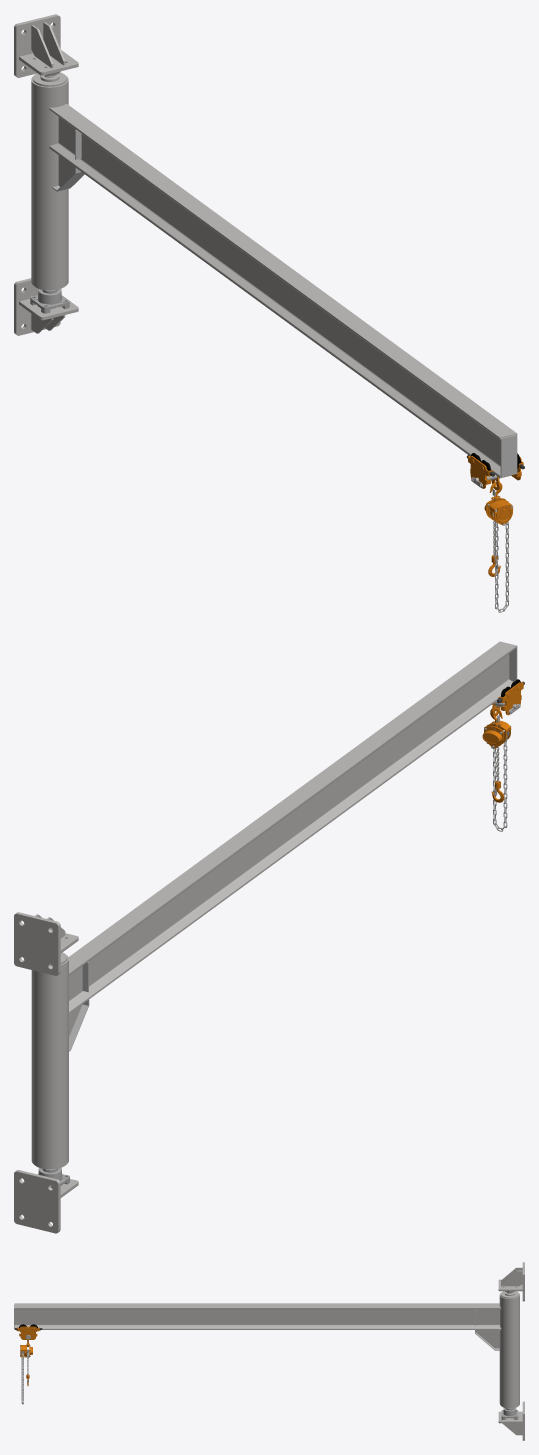
File: crane.glb
The picture shows the model from 3 angles, top to bottom: view 1: azimuth 30°, elevation 25°; view 2: azimuth 150°, elevation 25°; view 3: azimuth 270°, elevation 25°; orthographic projection. The views are drawn at different scales.
Visible parts, largest first — view 1: Solid1 (×6); view 2: Solid1 (×4); view 3: Solid1 (×5).
Boxes of the visible parts, x1,y1,x2,y2 form: Solid1 (×6): (14,14,517,477); Solid1 (×4): (14,641,517,1233); Solid1 (×5): (14,1270,522,1408).
Size of the model in its own units: 0.23 by 1.54 by 4.25.
